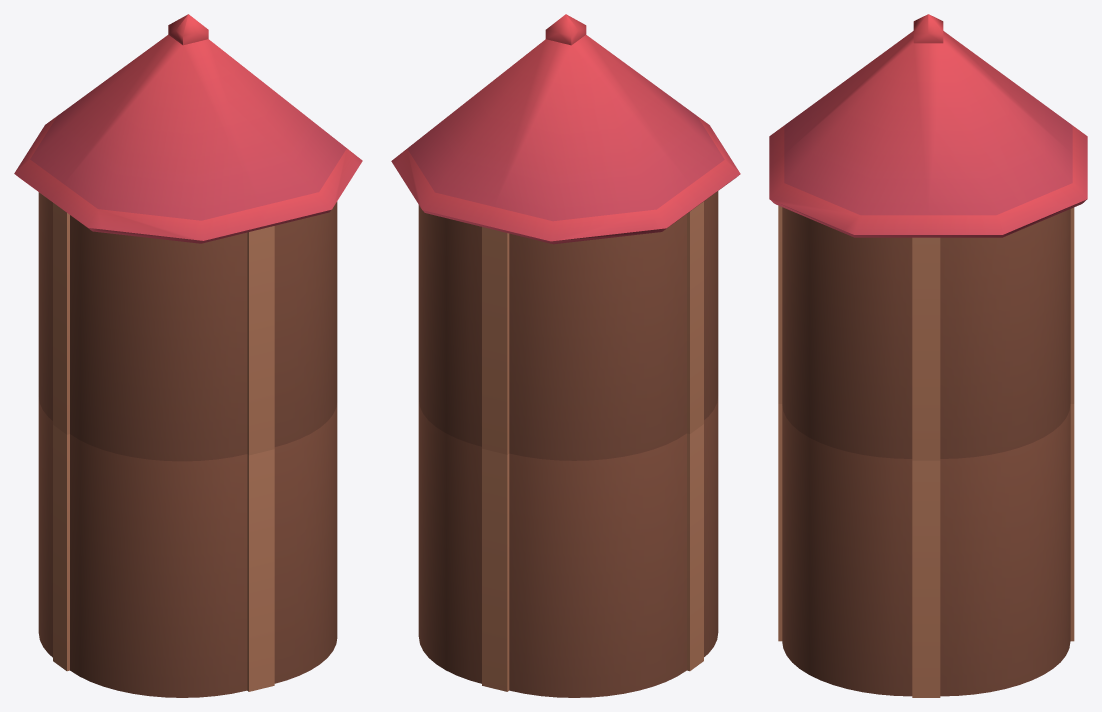
File: windmillbody.glb
The picture shows the model from 3 angles, left to right: view 1: azimuth 30°, elevation 25°; view 2: azimuth 150°, elevation 25°; view 3: azimuth 270°, elevation 25°; orthographic projection.
Parts seen in each view (by area): view 1: roof-high-corner-round; view 2: roof-high-corner-round; view 3: roof-high-corner-round.
Part boxes in pixels (x1,y1,x2,y2): roof-high-corner-round: (14, 14, 362, 697); roof-high-corner-round: (391, 14, 740, 697); roof-high-corner-round: (769, 14, 1087, 697).
Size of the model in its own units: 2.14 by 4.61 by 2.14.
Materials: 2 (2 with a texture image).
